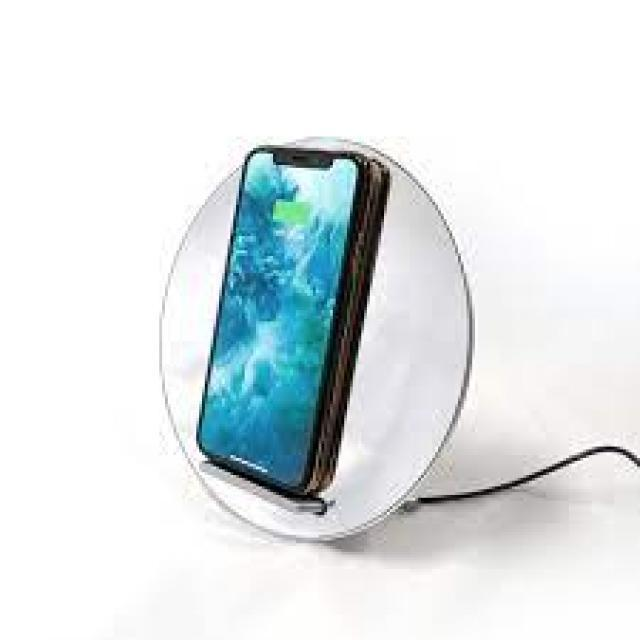Phone: (193, 144, 394, 502)
